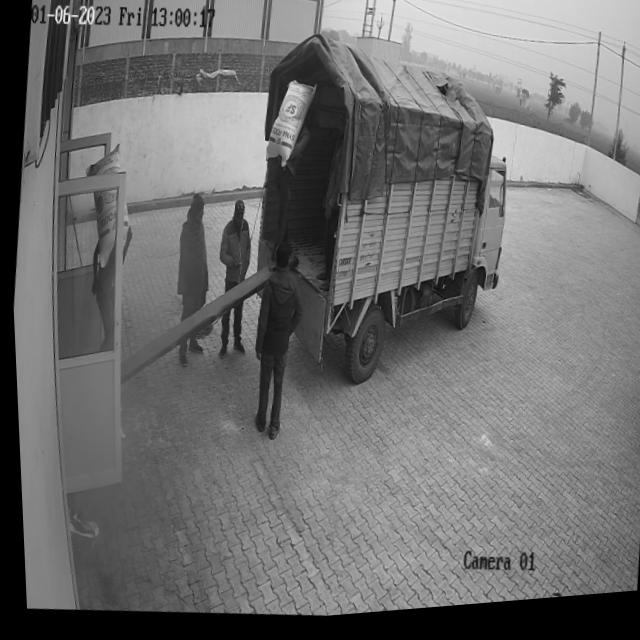sack: (74, 142, 137, 272), (261, 81, 318, 175)
